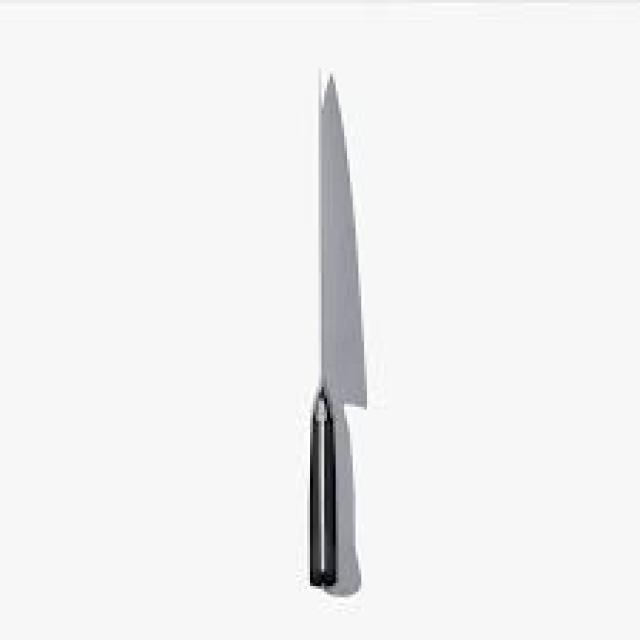Knife: (307, 68, 367, 594)
